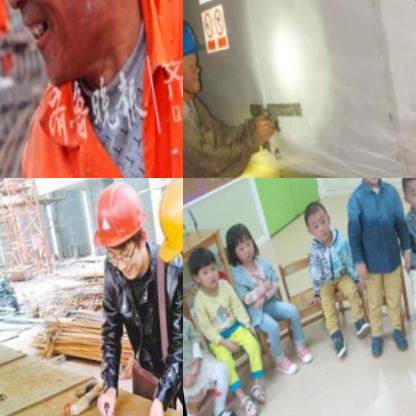head: (298, 199, 336, 252), (183, 242, 221, 293), (221, 217, 257, 266), (396, 178, 416, 221), (345, 178, 387, 192)
helmet: (0, 0, 183, 120), (81, 178, 156, 293), (145, 178, 183, 293), (183, 11, 207, 104)
